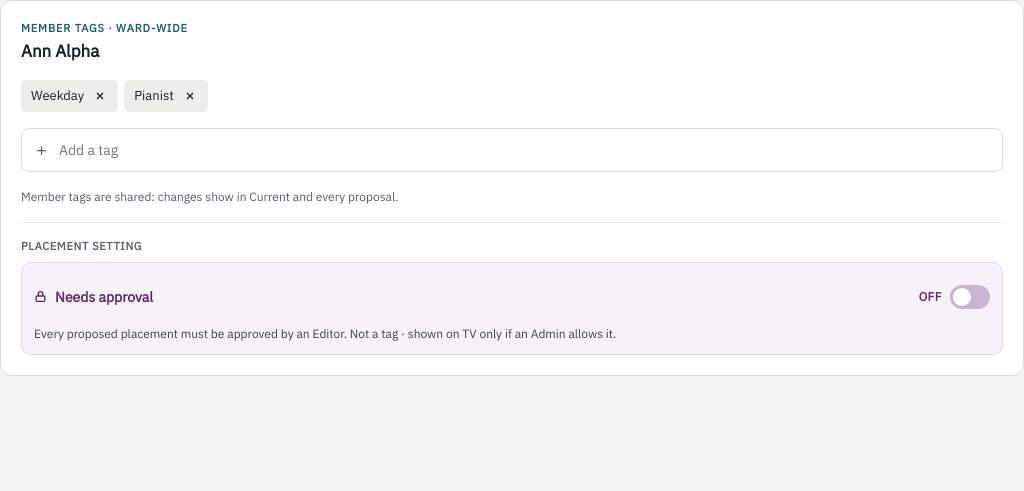
MemberTagsEditor › Escape closes the list
Click the dropdown labelled "Add a tag". click: (524, 150)
box: x1=57 y1=130 x2=990 y2=170
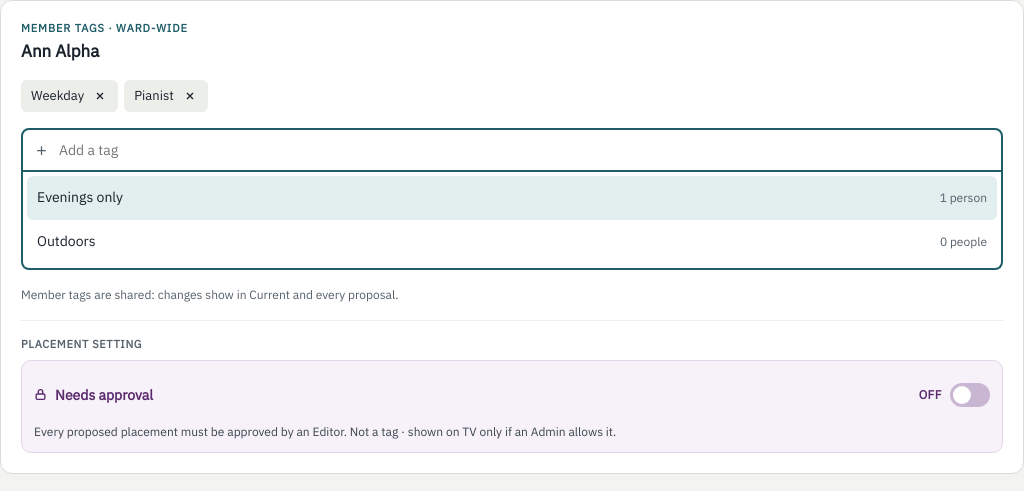
Result: the list is shown at x1=21 y1=172 x2=1003 y2=270
Press Escape
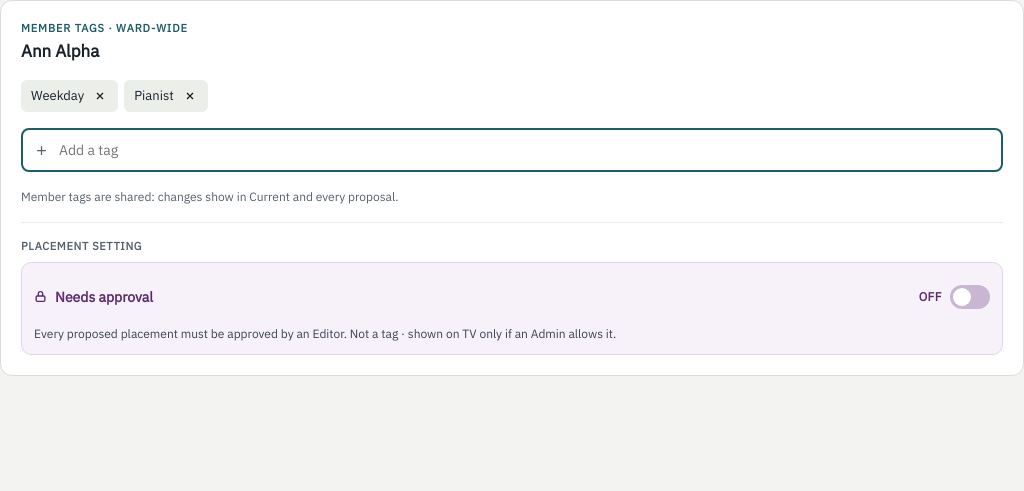
Result: the list is gone
